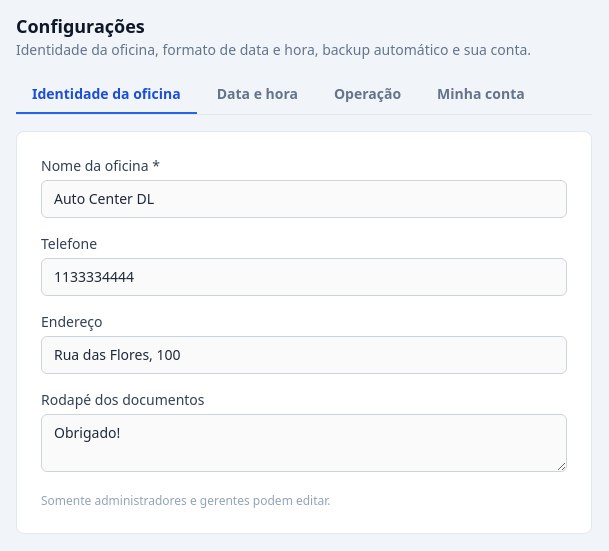
SettingsPage tabs (2026-09-18) › hides the admin-only operations content for non-admins
The image size is (609, 551).
Click the tab "Operação" at (368, 95), box x1=318 y1=76 x2=417 y2=114
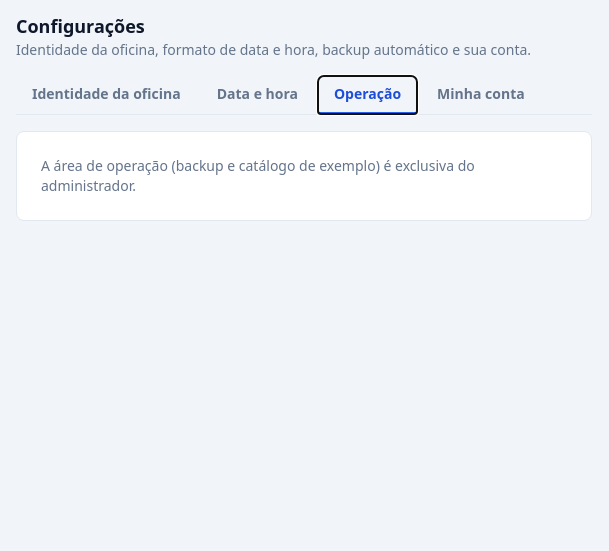
expect the text "exclusiva do administrador" is shown: met, box x1=41 y1=156 x2=475 y2=195
